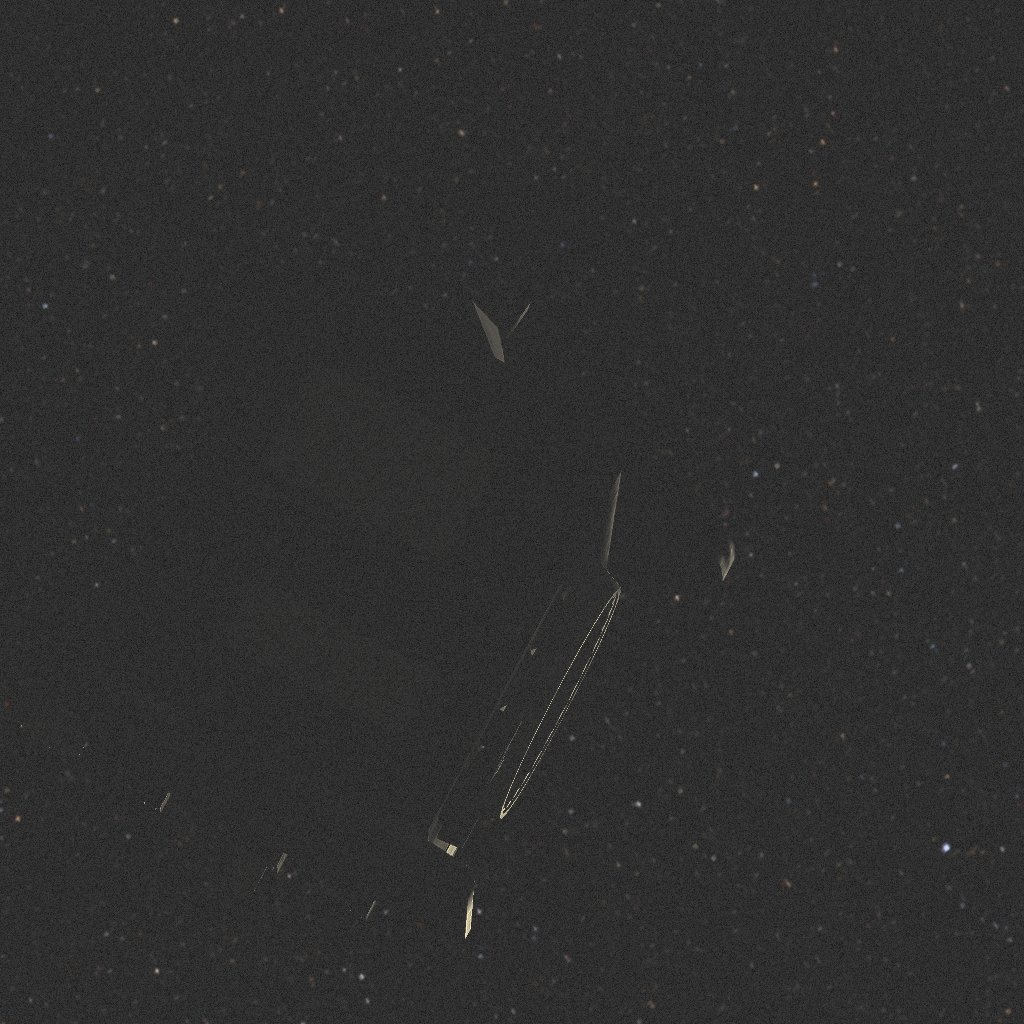proba_3_ocs: (20, 270, 736, 939)
